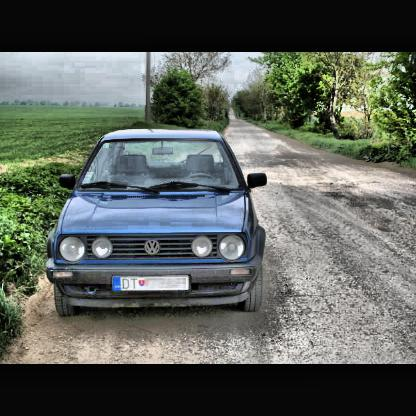Volkswagen Golf Hatchback 1991: (44, 126, 268, 315)
